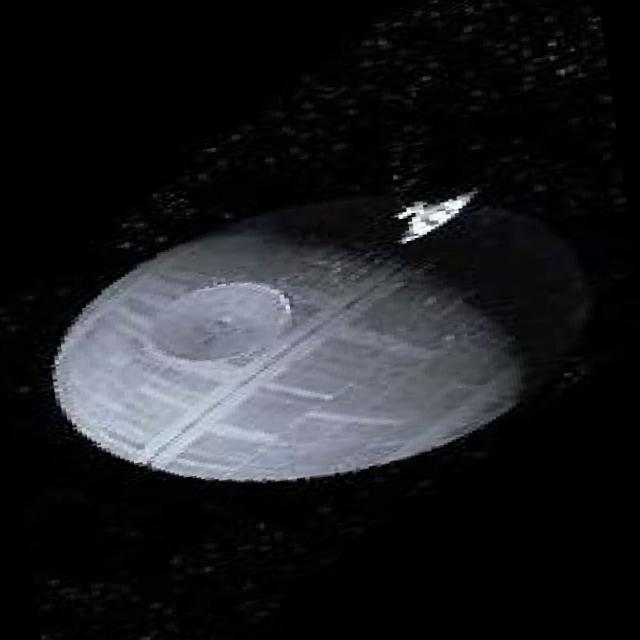Death Star: (21, 165, 622, 519)
